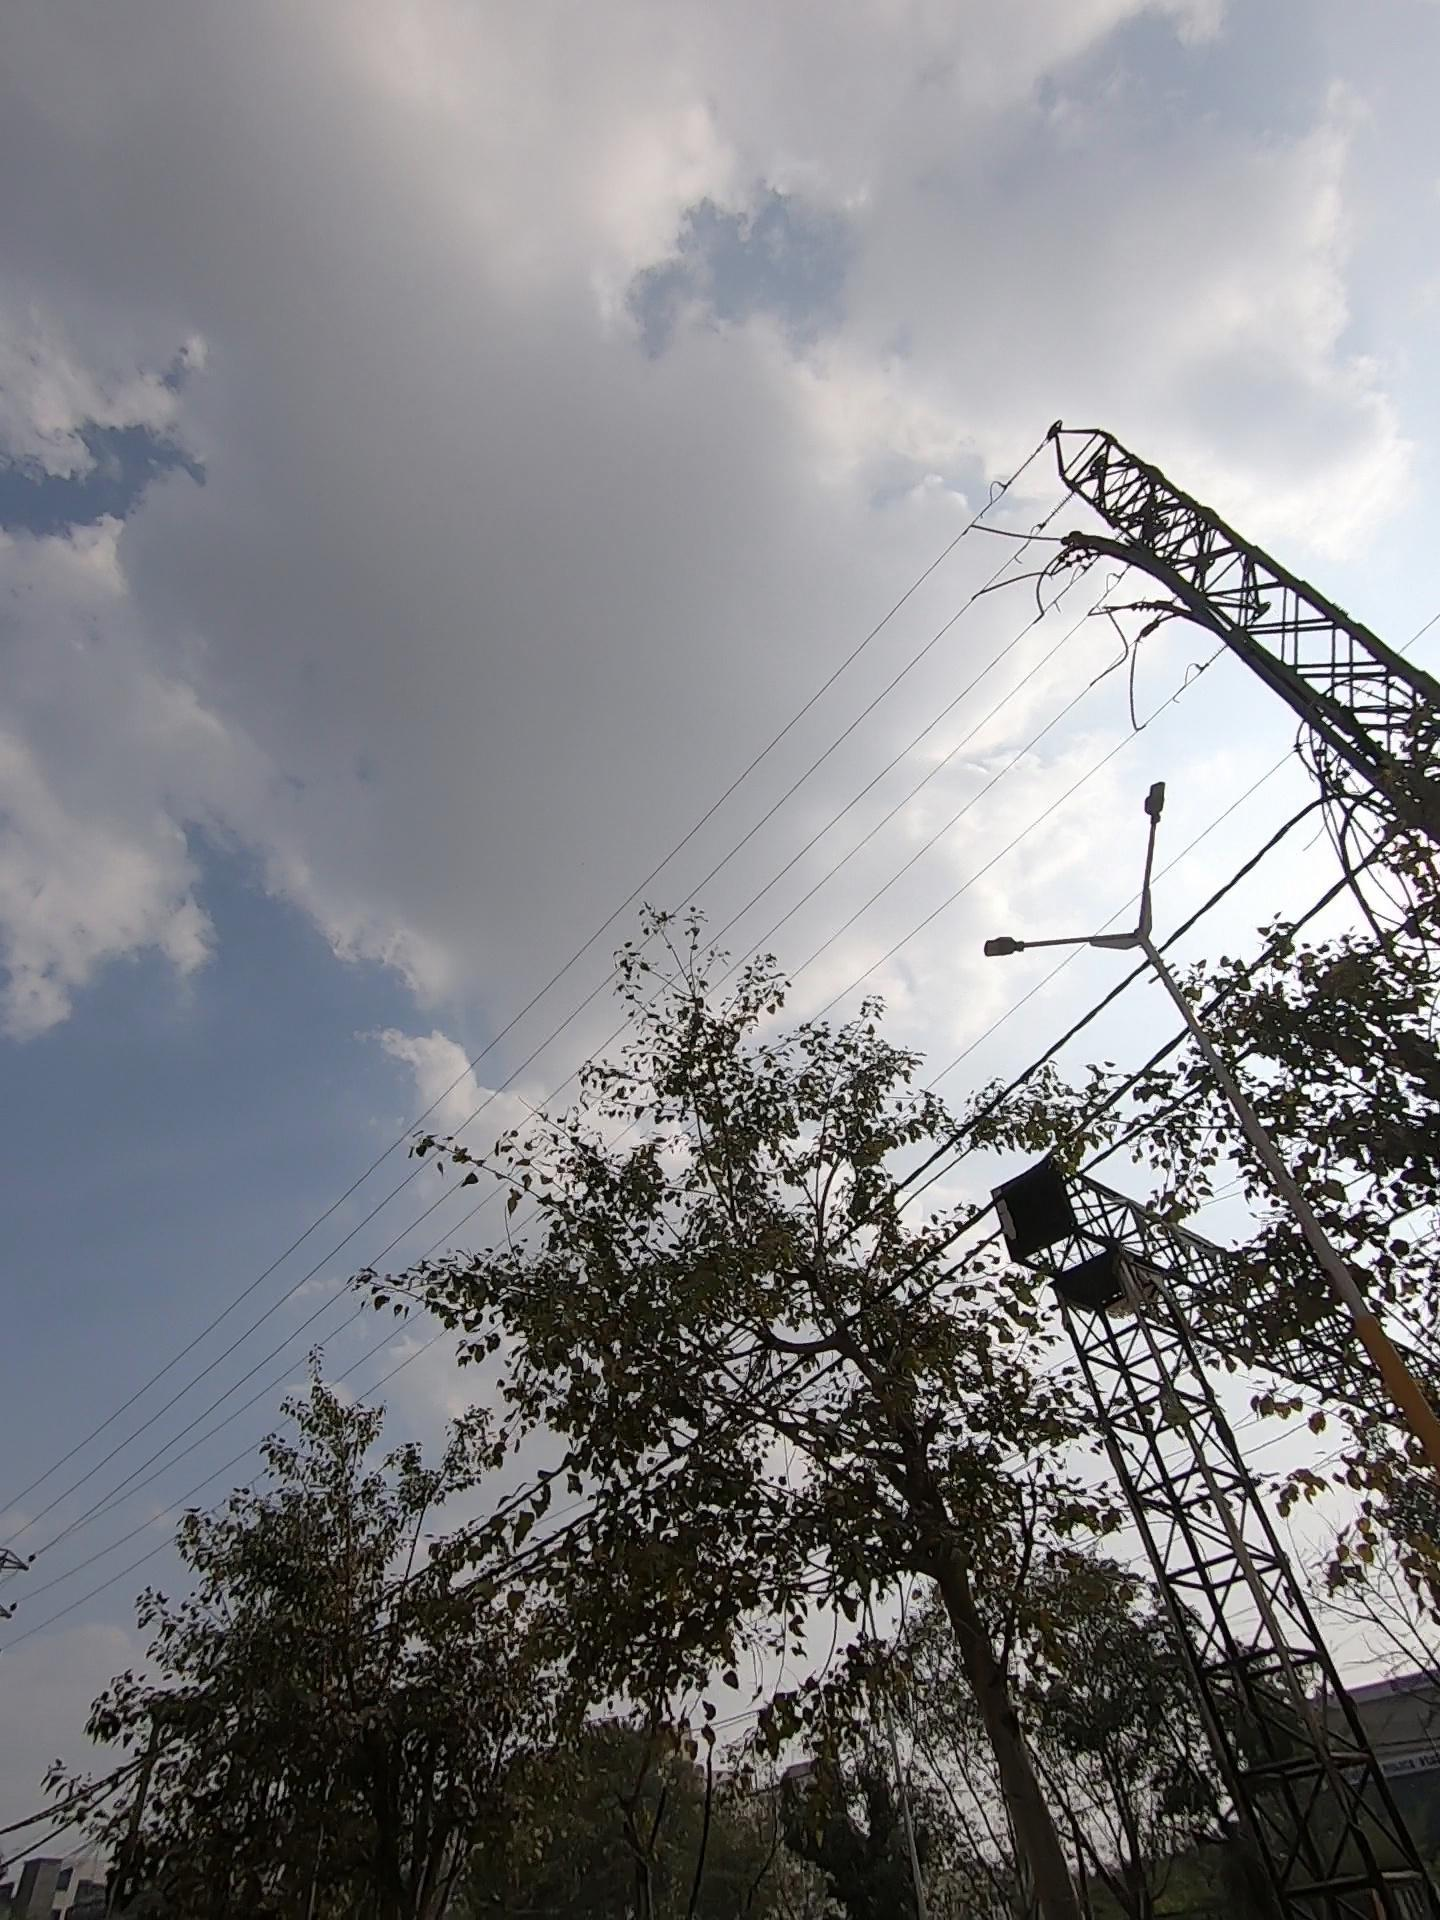off: (976, 667, 1260, 1052)
